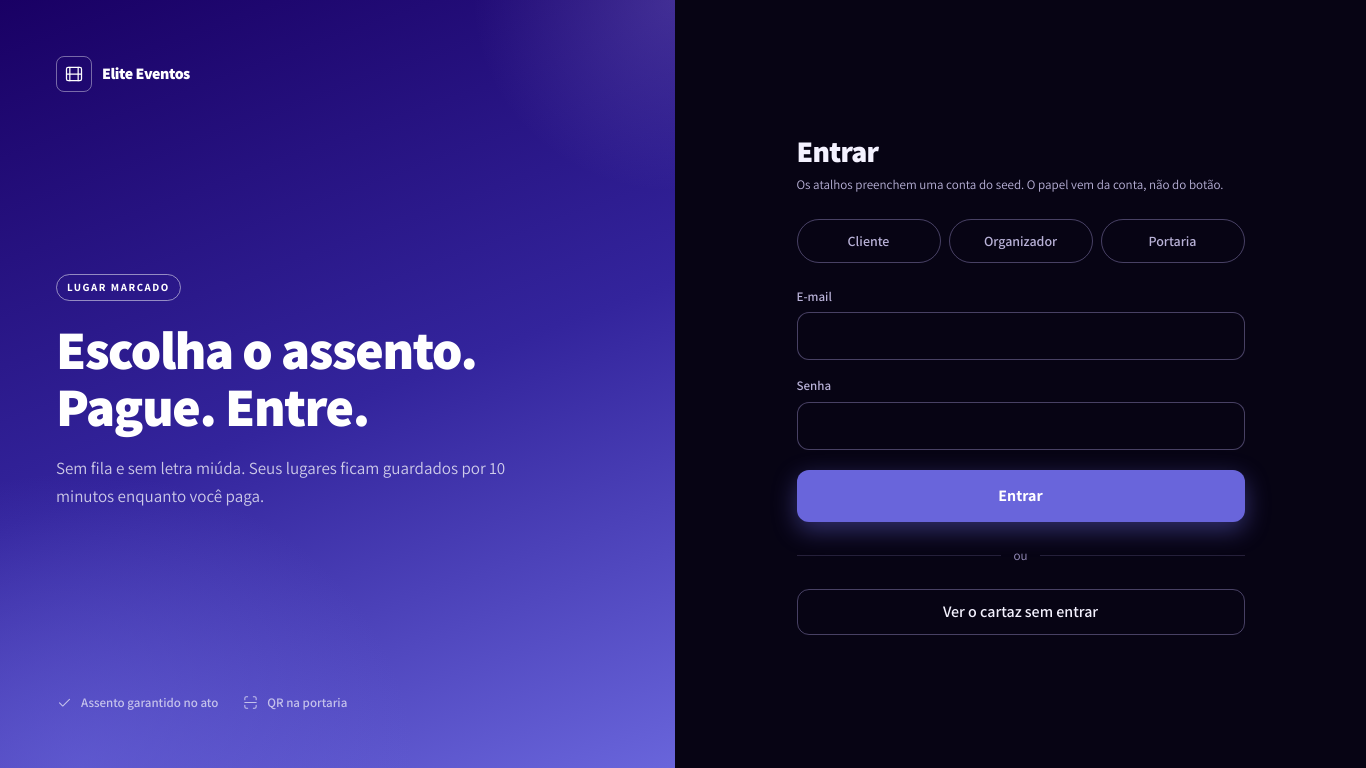
login › credencial inválida mostra alerta e não cria sessão
In the field labelled "E-mail": (1020,336) [796,312,1244,360], type "org@elite.local"
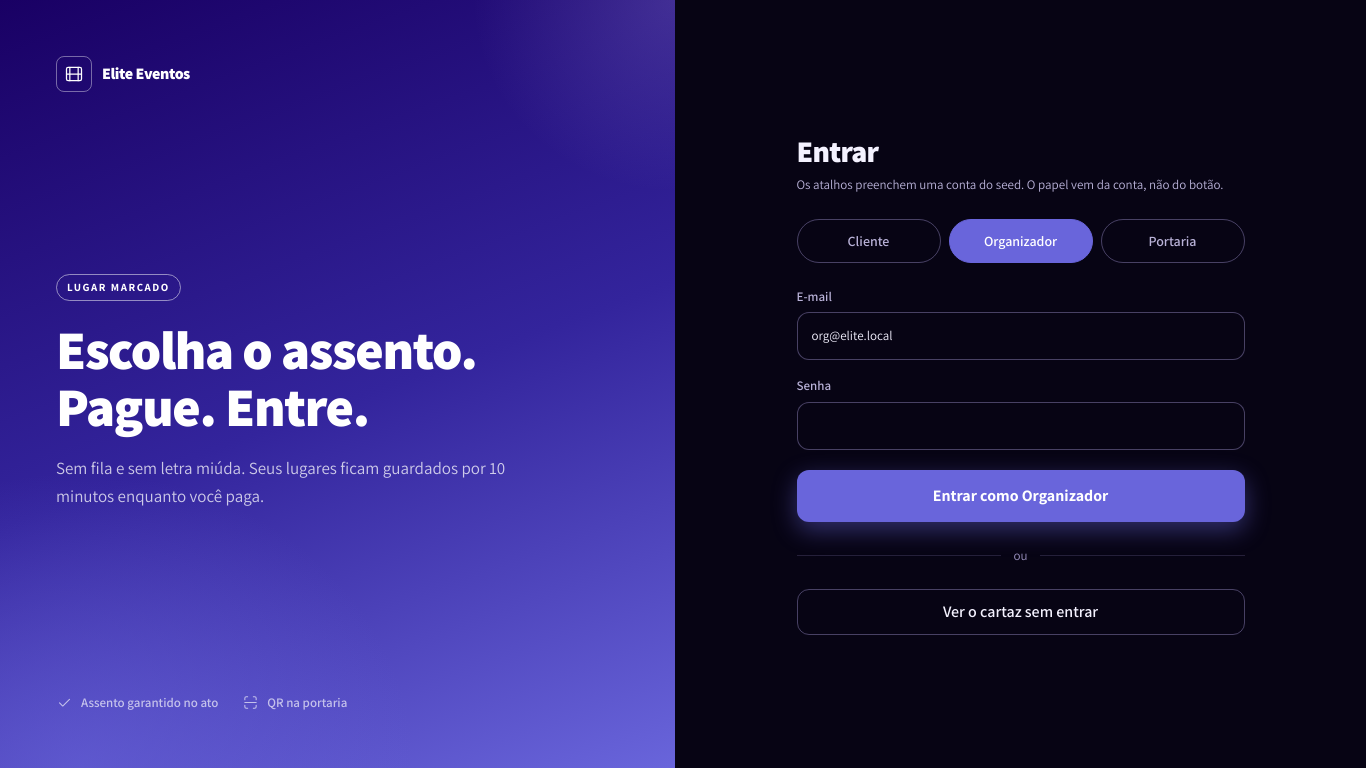
In the password field labelled "Senha": (1020,426) [796,402,1244,450], type "wrong"
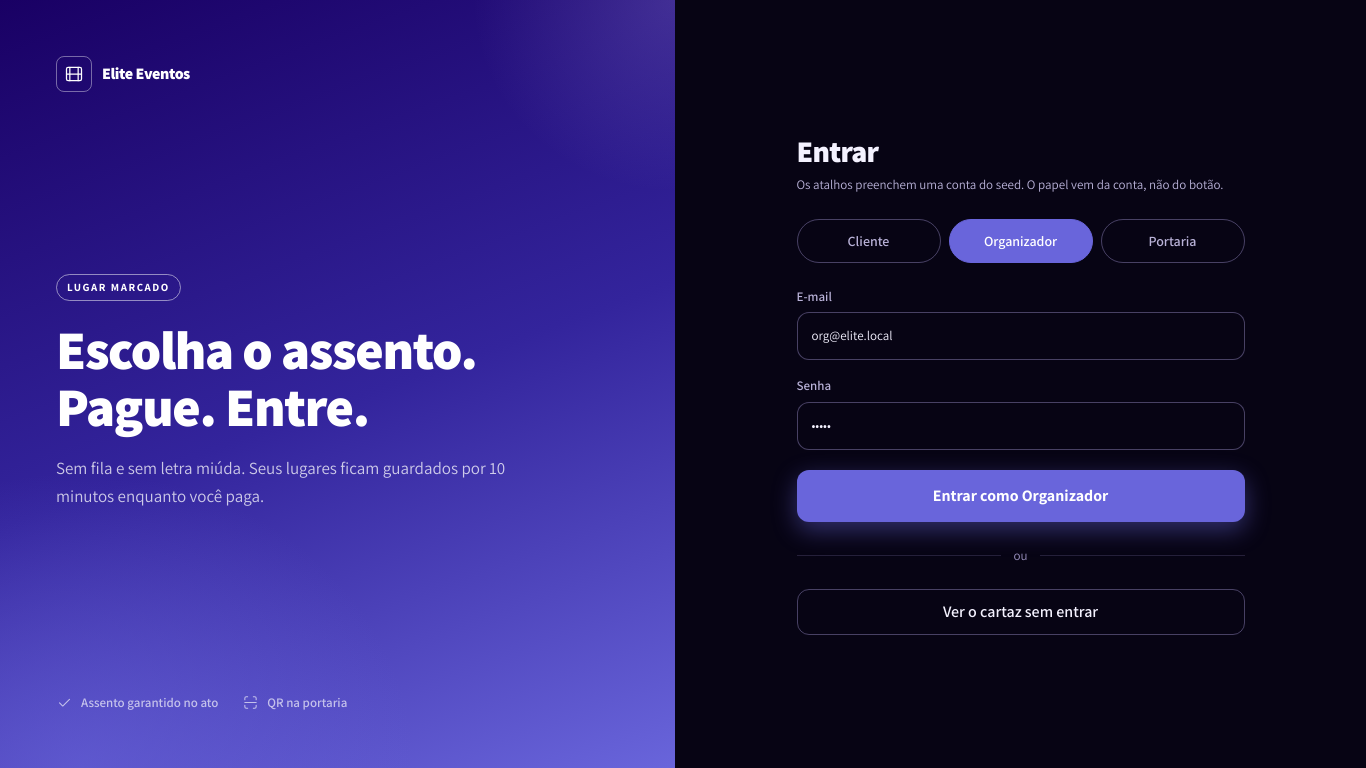
Click the button "Entrar como Organizador": (1020,496) [796,470,1244,522]
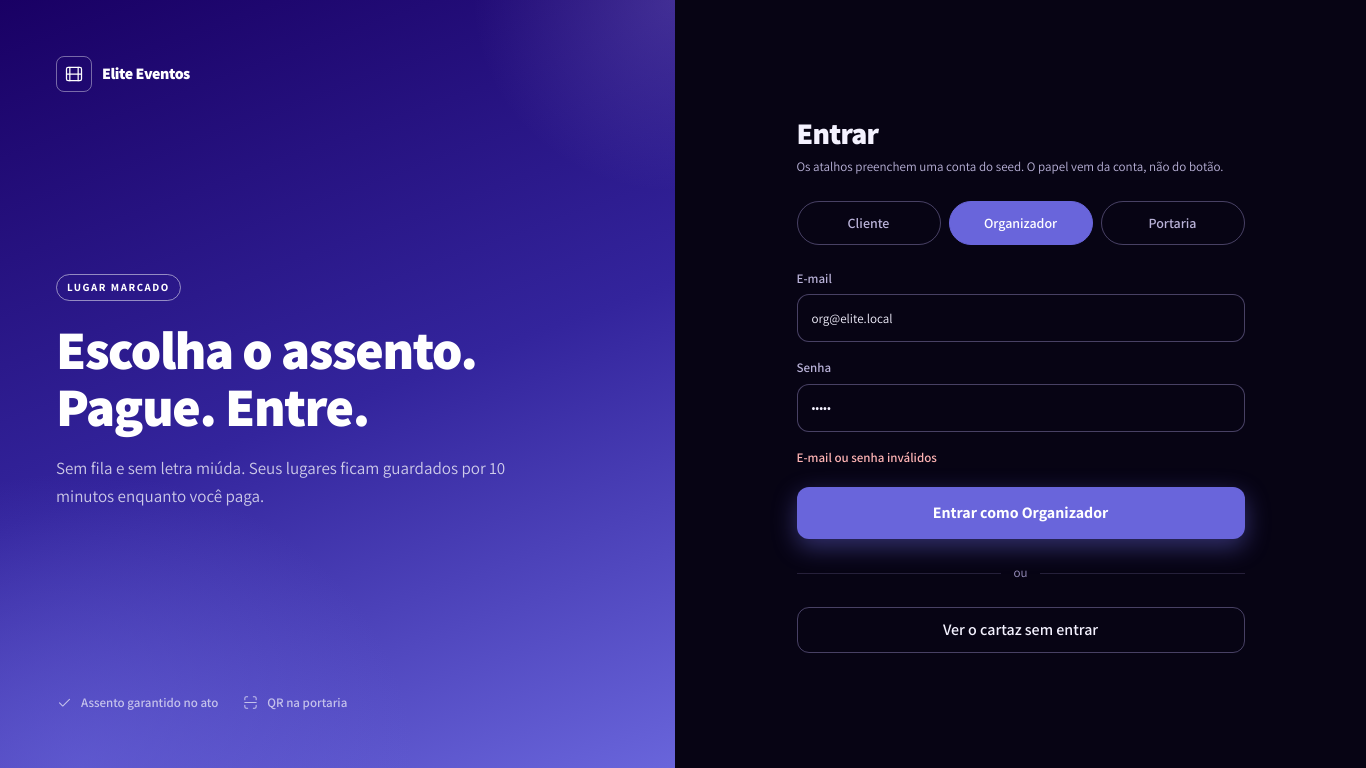
Result: the message reads "E-mail ou senha inválidos" at [796,449,937,466]
